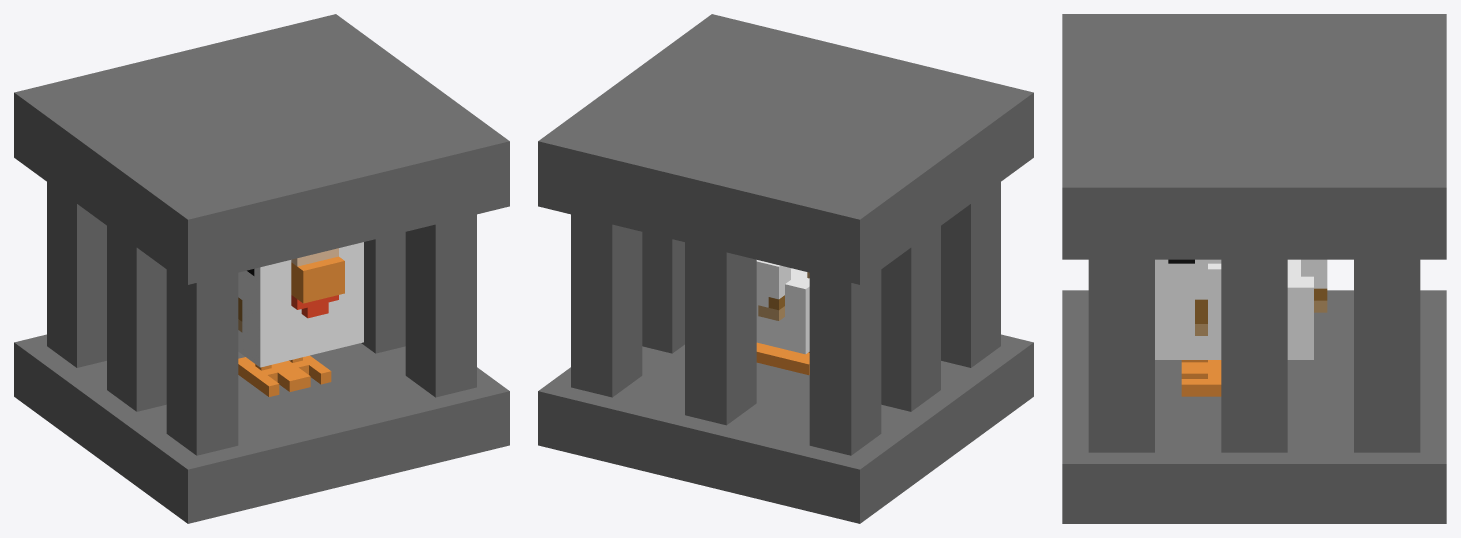
File: Cage-chicken.dae
3 views of the same model, side by side, from view 1: azimuth 30°, elevation 25°; view 2: azimuth 150°, elevation 25°; view 3: azimuth 270°, elevation 25° (orthographic). The views are drawn at different scales.
Visible parts, largest first — view 1: Union; view 2: Union; view 3: Union.
Part boxes in pixels (bbox=[...]): Union: bbox=[14, 14, 509, 523]; Union: bbox=[538, 14, 1033, 523]; Union: bbox=[1062, 14, 1446, 523].
Bounding box in the file's own units: 31 × 28 × 29.
